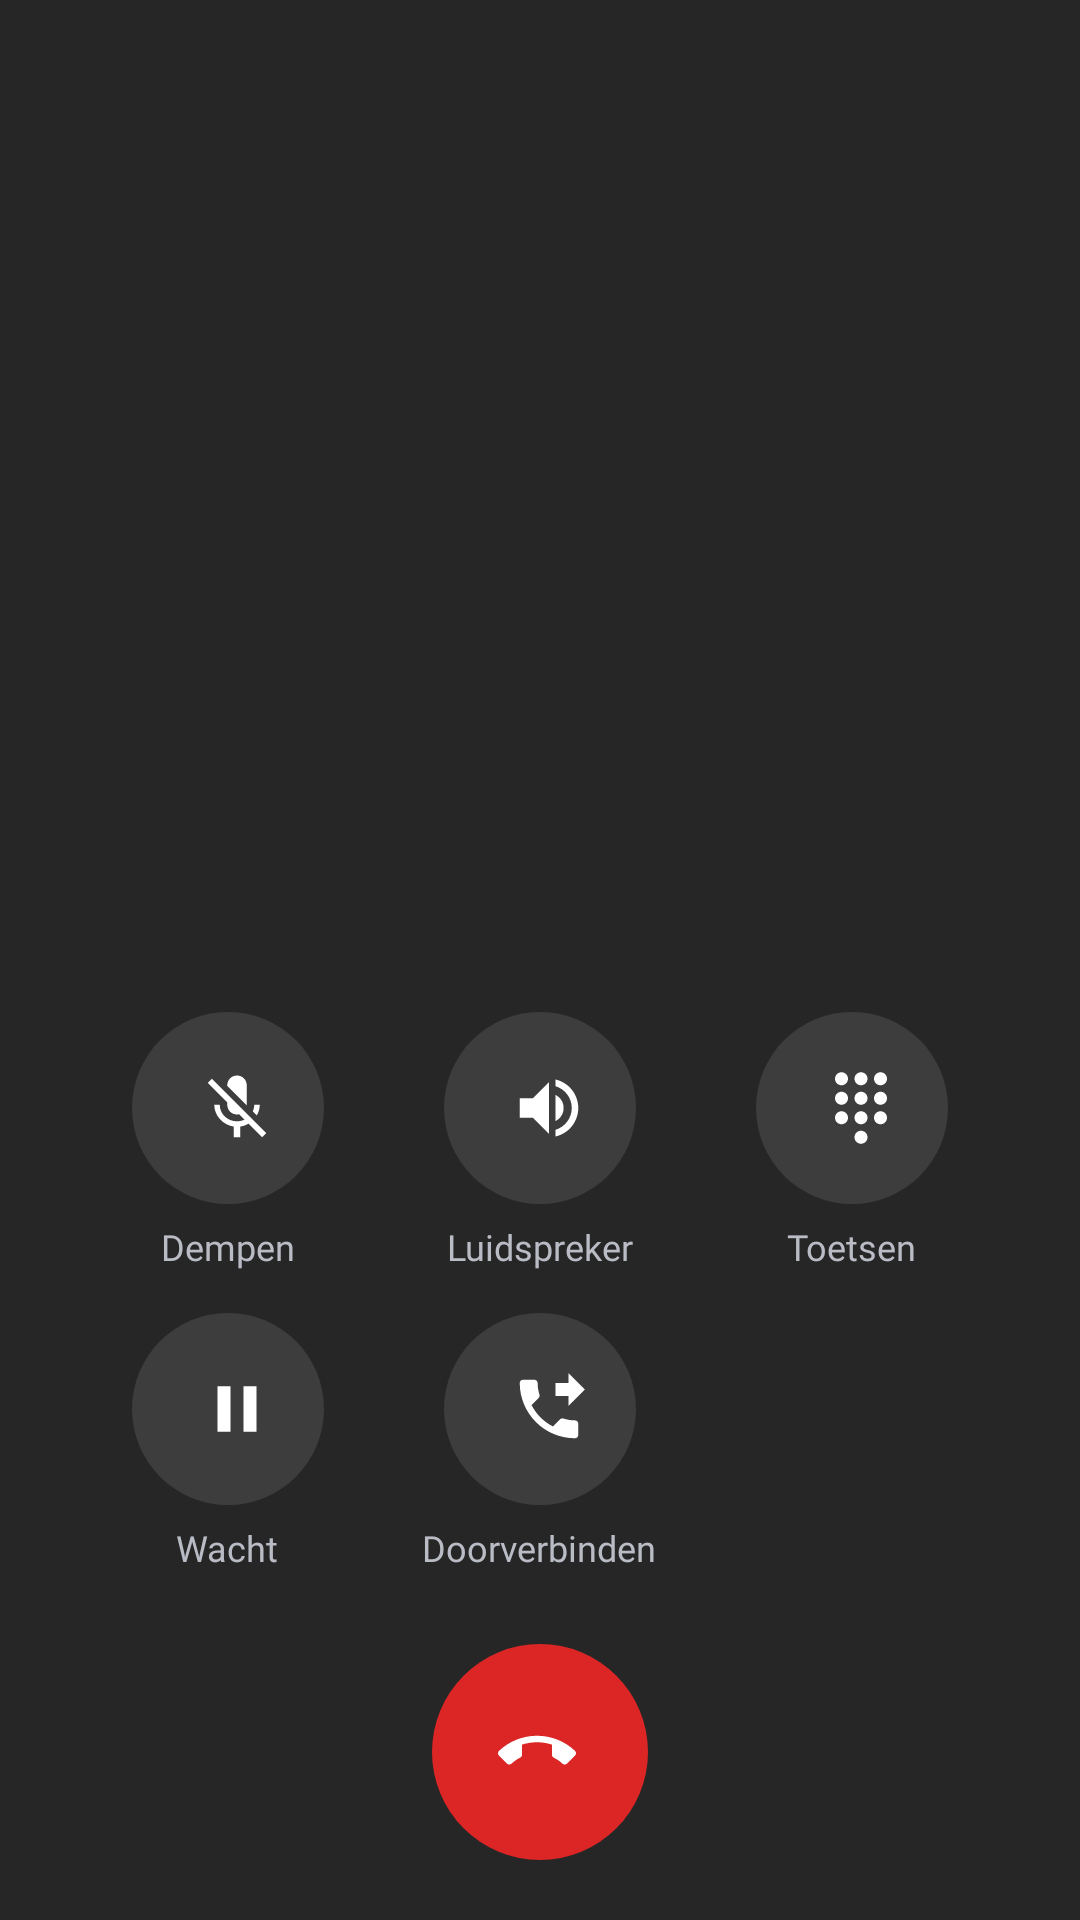

Screen size 1080px×1920px. Icon name, then its box in pixels as (x1, y1, x2, y2):
Ophangen: (432, 1644, 648, 1860)
